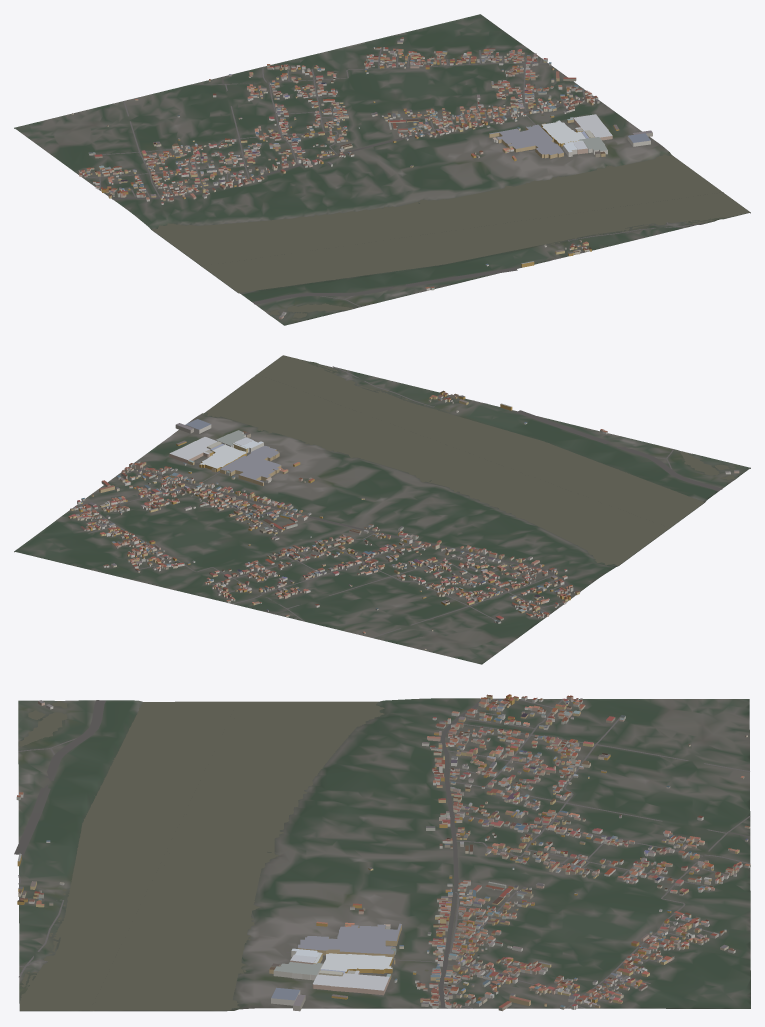
The picture shows the model from 3 angles, top to bottom: view 1: azimuth 30°, elevation 25°; view 2: azimuth 150°, elevation 25°; view 3: azimuth 270°, elevation 25°; orthographic projection. The views are drawn at different scales.
Visible parts, largest first — view 1: ground, water, buildings, roads; view 2: ground, water, buildings, roads; view 3: ground, water, buildings, roads.
Boxes of the visible parts, box(x1,y1,x2,y2) form: ground: box(14, 14, 750, 325); water: box(152, 114, 749, 318); buildings: box(71, 37, 652, 319); roads: box(83, 49, 700, 306); ground: box(14, 356, 750, 664); water: box(189, 355, 735, 565); buildings: box(68, 390, 739, 649); roads: box(75, 366, 722, 637); ground: box(18, 698, 750, 1011); water: box(19, 701, 428, 1011); buildings: box(16, 694, 750, 1011); roads: box(14, 699, 750, 1008).
Bounding box in the file's own units: 1419 × 23.94 × 1412.
